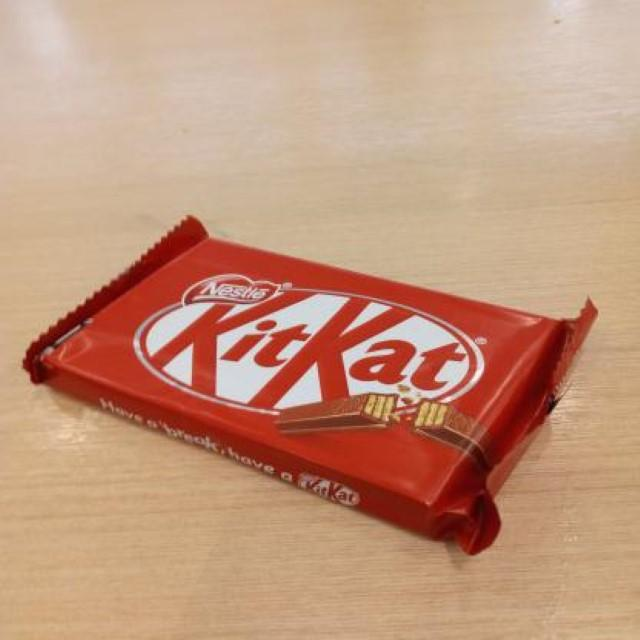kitkat_chocolate: (92, 182, 535, 560)
